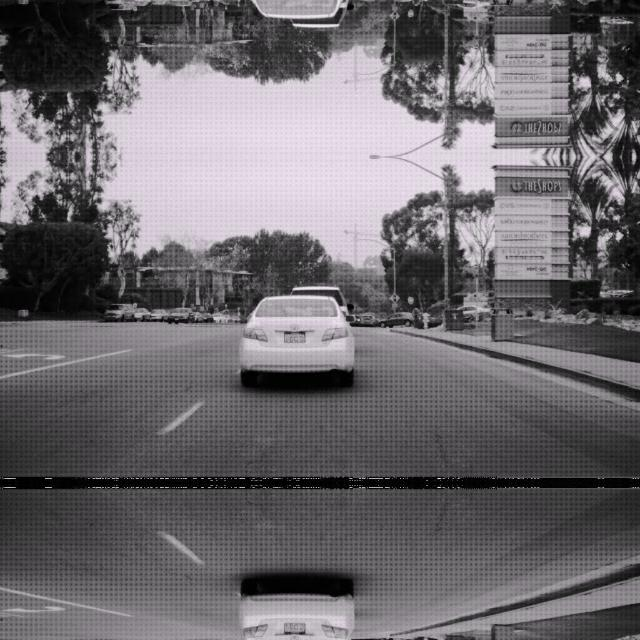signalAhead: (388, 290, 399, 302), (388, 10, 399, 22)
